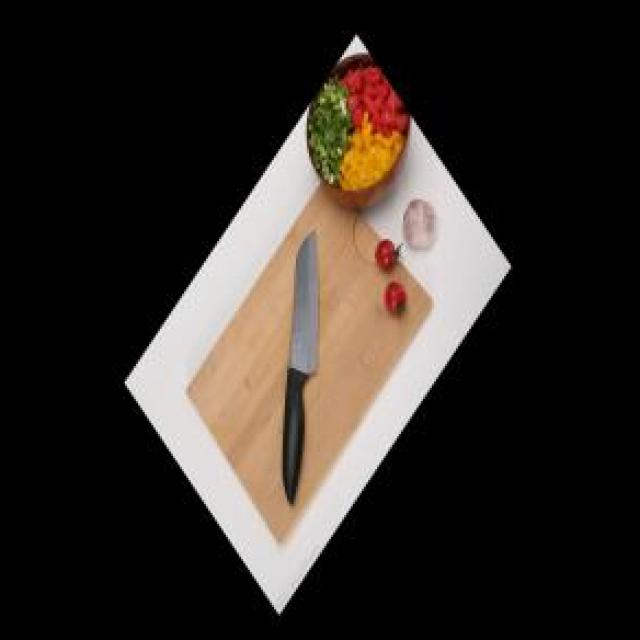knife: (278, 228, 324, 512)
